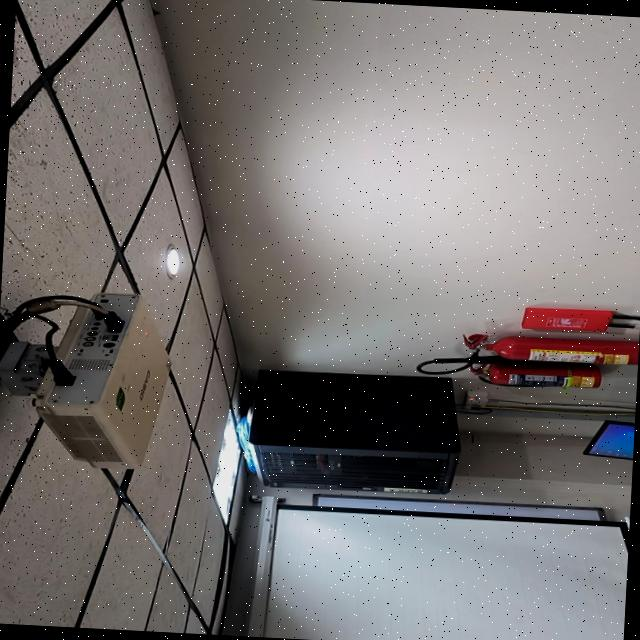Fire Extinguisher: (464, 334, 639, 364), (478, 362, 601, 387)
Light: (212, 411, 241, 523), (166, 246, 179, 276)
Monitor: (583, 420, 635, 460)
Projector: (15, 292, 171, 469)
